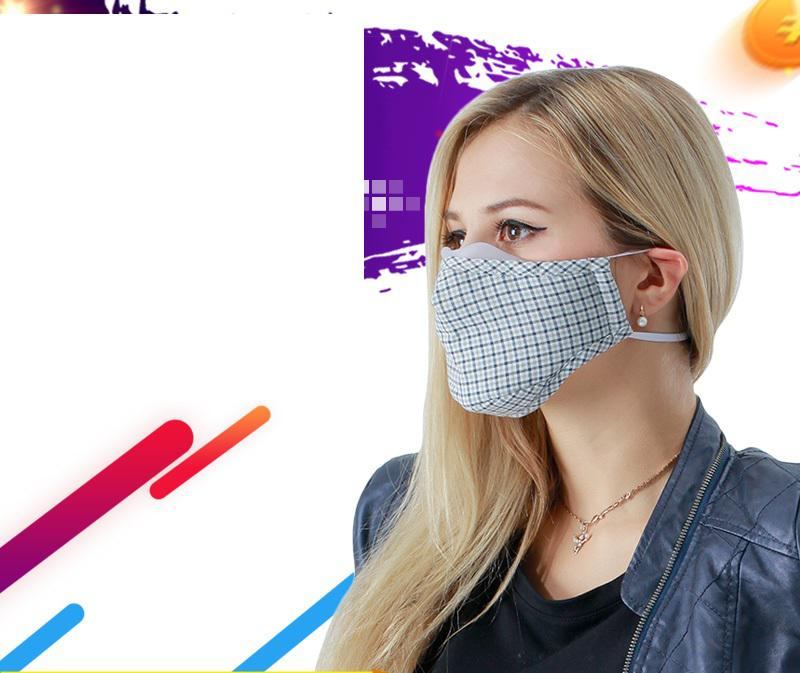OK: (428, 187, 647, 406)
